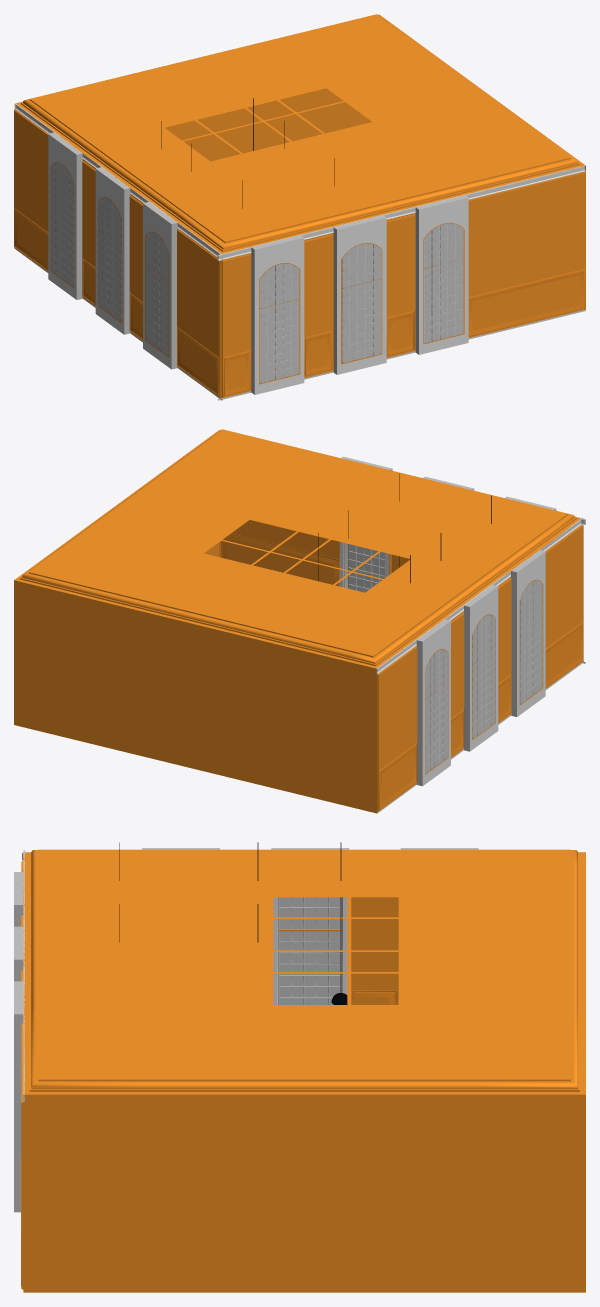
Rendered from InteriorScene.fbx.
3 renders of one model, top to bottom at view 1: azimuth 30°, elevation 25°; view 2: azimuth 150°, elevation 25°; view 3: azimuth 270°, elevation 25°, orthographic. The views are drawn at different scales.
Parts seen in each view (by area): view 1: ceiling, Walls, wall_opposite, GLASS_7, GLASS_6, GLASS_5, plint_ceiling, Cap_1_8, Cap_1_12, Cap_1_10, GLASS_2, GLASS (+14 smaller); view 2: ceiling, wall_opposite, Walls, GLASS, GLASS_2, GLASS_3, Cap_1, Cap_1_3, Cap_1_5, GLASS_7, plint_ceiling, Extrude_1 (+2 smaller); view 3: ceiling, wall_opposite, GLASS_2, Walls, Extrude_1_7, window_2, Cap_2_3, profile_2.
Part boxes in pixels (left/top/right/bottom): ceiling: left=16, top=14, right=585, bottom=253; Walls: left=14, top=109, right=585, bottom=398; wall_opposite: left=14, top=88, right=585, bottom=170; GLASS_7: left=424, top=223, right=463, bottom=342; GLASS_6: left=342, top=243, right=381, bottom=362; GLASS_5: left=260, top=263, right=299, bottom=382; plint_ceiling: left=14, top=103, right=585, bottom=400; Cap_1_8: left=254, top=238, right=304, bottom=394; Cap_1_12: left=419, top=197, right=468, bottom=354; Cap_1_10: left=337, top=217, right=386, bottom=374; GLASS_2: left=98, top=197, right=120, bottom=321; GLASS: left=51, top=163, right=73, bottom=286; ceiling: left=14, top=429, right=581, bottom=668; wall_opposite: left=14, top=542, right=377, bottom=813; Walls: left=219, top=520, right=583, bottom=811; GLASS: left=425, top=649, right=448, bottom=773; GLASS_2: left=473, top=615, right=495, bottom=738; GLASS_3: left=520, top=580, right=542, bottom=703; Cap_1: left=422, top=621, right=450, bottom=785; Cap_1_3: left=470, top=586, right=498, bottom=751; Cap_1_5: left=517, top=552, right=545, bottom=716; GLASS_7: left=348, top=544, right=384, bottom=592; plint_ceiling: left=220, top=430, right=585, bottom=813; Extrude_1: left=416, top=619, right=450, bottom=786; ceiling: left=23, top=849, right=585, bottom=1094; wall_opposite: left=23, top=1094, right=585, bottom=1292; GLASS_2: left=279, top=897, right=340, bottom=1004; Walls: left=21, top=861, right=398, bottom=1289; Extrude_1_7: left=14, top=981, right=23, bottom=1212; window_2: left=279, top=897, right=341, bottom=1004; Cap_2_3: left=273, top=897, right=347, bottom=1004; profile_2: left=279, top=897, right=340, bottom=1004.
Size of the model in its own units: 1869 by 867 by 1832.
